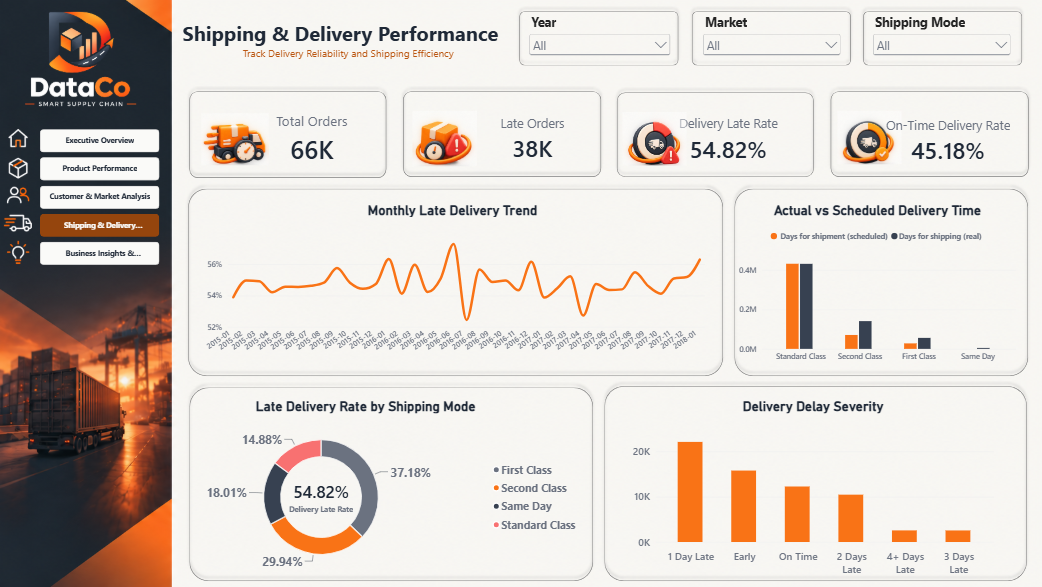

Layout of this report page (visuals, bound fields, positions):
{"tool":"powerbi","page":{"name":"Shipping & Delivery Performance","canvas":[1920,1080],"ordinal":3},"visuals":[{"type":"image","box":[0,19.2,491.9,287.8],"z":0},{"type":"textbox","box":[420,80,530,125],"z":1000},{"type":"shape","box":[1086,676,694,330],"z":2000},{"type":"shape","box":[1294,360,488,318],"z":3000},{"type":"shape","box":[422,678,664,328],"z":4000},{"type":"shape","box":[420,360,874,318],"z":5000},{"type":"donutChart","title":"Late Delivery Rate by Shipping Mode","fields":{"Category":["FactOrderItems.Shipping Mode"],"Y":["Measures_.Delivery Late Rate"]},"box":[351.2,689.8,722.3,306.2],"z":6000},{"type":"shape","box":[422.1,204.1,333.1,157],"z":7000},{"type":"shape","box":[763.4,204.1,334.9,155.2],"z":8000},{"type":"shape","box":[1106.4,205.8,333.1,153.5],"z":9000},{"type":"shape","box":[1447.7,204.1,334.9,155.2],"z":10000},{"type":"cardVisual","fields":{"Data":["Measures_.Total Orders"]},"box":[430,217.5,310,142.5],"z":11000},{"type":"cardVisual","fields":{"Data":["Measures_.Delivery Late Rate"]},"box":[1161.2,220,263.8,141.2],"z":12000},{"type":"image","box":[1468,234,102,106],"z":13000},{"type":"cardVisual","fields":{"Data":["Measures_.Late Orders"]},"box":[873.8,219.8,212.8,139.5],"z":14000},{"type":"cardVisual","fields":{"Data":["Measures_.On-Time Delivery Rate %"]},"box":[1520,224,250,138],"z":15000},{"type":"image","box":[788,234,102.9,109.9],"z":16000},{"type":"image","box":[1124,240,102,98],"z":17000},{"type":"image","box":[450,234,108,112],"z":18000},{"type":"shape","box":[1500,75,272.5,105],"z":19000},{"type":"shape","box":[1225,75,272.5,105],"z":20000},{"type":"shape","box":[950,75,272.5,105],"z":21000},{"type":"slicer","fields":{"Values":["DimDate.Year"]},"box":[970,87.5,235,82.5],"z":22000},{"type":"slicer","fields":{"Values":["FactOrderItems.Market"]},"box":[1247.5,87.5,230,80],"z":23000},{"type":"slicer","fields":{"Values":["FactOrderItems.Shipping Mode"]},"box":[1520.9,87.2,230,80],"z":24000},{"type":"clusteredColumnChart","title":"Actual vs Scheduled Delivery Time","fields":{"Category":["FactOrderItems.Shipping Mode"],"Y":["Sum(FactOrderItems.Days for shipment (scheduled))","Sum(FactOrderItems.Days for shipping (real))"]},"box":[1294,376,476,290],"z":25000},{"type":"lineChart","title":"Monthly Late Delivery Trend","fields":{"Category":["DimDate.Year Month"],"Y":["Measures_.Delivery Late Rate"]},"box":[432,376,840,282],"z":26000},{"type":"clusteredColumnChart","title":"Delivery Delay Severity","fields":{"Category":["FactOrderItems.Delay Category"],"Y":["Measures_.Total Orders"]},"box":[1124,690,610,318],"z":27000},{"type":"image","box":[0,202.3,382,359.3],"z":28000},{"type":"pageNavigator","box":[191.9,273.8,191.9,219.8],"z":29000}]}

Visuals, with their boxes in screenshot pixels (x1, y1, x2, y2), scaled from the page's 1920x1080 canvas onto the 1042x587 screenshot:
image: 0:10:267:167
textbox: 228:43:516:111
shape: 589:367:966:547
shape: 702:196:967:369
shape: 229:369:589:547
shape: 228:196:702:369
"Late Delivery Rate by Shipping Mode" donutChart: 191:375:583:541
shape: 229:111:410:196
shape: 414:111:596:195
shape: 600:112:781:195
shape: 786:111:967:195
cardVisual - Measures_.Total Orders: 233:118:402:196
cardVisual - Measures_.Delivery Late Rate: 630:120:773:196
image: 797:127:852:185
cardVisual - Measures_.Late Orders: 474:119:590:195
cardVisual - Measures_.On-Time Delivery Rate %: 825:122:961:197
image: 428:127:483:187
image: 610:130:665:184
image: 244:127:303:188
shape: 814:41:962:98
shape: 665:41:813:98
shape: 516:41:663:98
slicer - DimDate.Year: 526:48:654:92
slicer - FactOrderItems.Market: 677:48:802:91
slicer - FactOrderItems.Shipping Mode: 825:47:950:91
"Actual vs Scheduled Delivery Time" clusteredColumnChart: 702:204:961:362
"Monthly Late Delivery Trend" lineChart: 234:204:690:358
"Delivery Delay Severity" clusteredColumnChart: 610:375:941:548
image: 0:110:207:305
pageNavigator: 104:149:208:268
